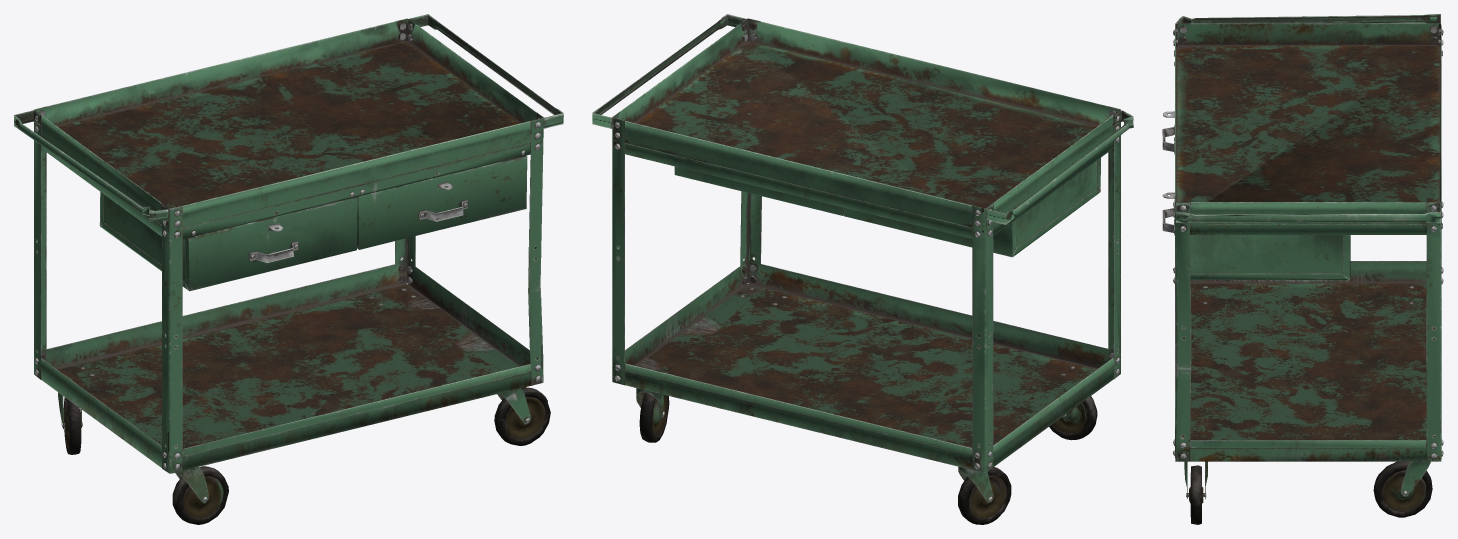
File: tool_cart.glb
The picture shows the model from 3 angles, left to right: view 1: azimuth 30°, elevation 25°; view 2: azimuth 150°, elevation 25°; view 3: azimuth 270°, elevation 25°; orthographic projection. The views are drawn at different scales.
Visible parts, largest first — view 1: tool_cart; view 2: tool_cart; view 3: tool_cart.
Boxes of the visible parts, x1=… form: tool_cart: x1=14, y1=14, x2=563, y2=524; tool_cart: x1=592, y1=14, x2=1133, y2=524; tool_cart: x1=1162, y1=14, x2=1443, y2=524.
Size of the model in its own units: 1.27 by 0.9646 by 0.7536.
Materials: 1 (1 with a texture image).
